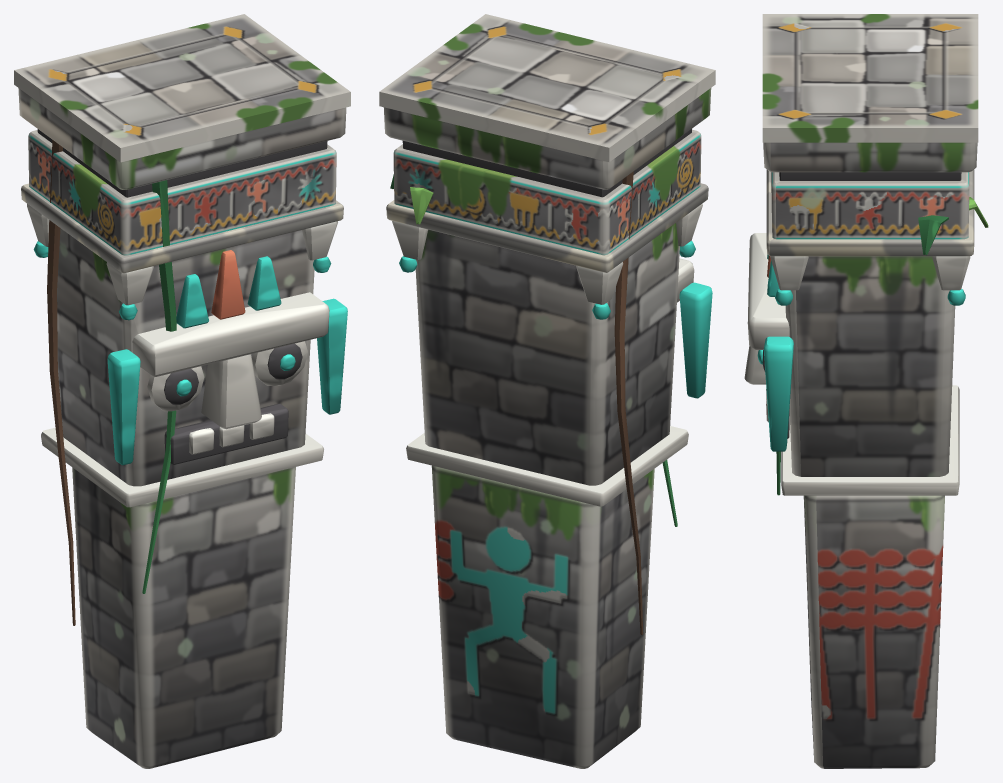
The model's file is stone_4.glb.
3 renders of one model, left to right at view 1: azimuth 30°, elevation 25°; view 2: azimuth 150°, elevation 25°; view 3: azimuth 270°, elevation 25°, orthographic.
Parts seen in each view (by area): view 1: stone_4.001; view 2: stone_4.001; view 3: stone_4.001.
Part boxes in pixels (x1=…): stone_4.001: x1=14, y1=14, x2=350, y2=768; stone_4.001: x1=379, y1=14, x2=715, y2=768; stone_4.001: x1=744, y1=14, x2=988, y2=768.
Size of the model in its own units: 5.31 by 13.6 by 4.52.
1 material, 1 textured.
